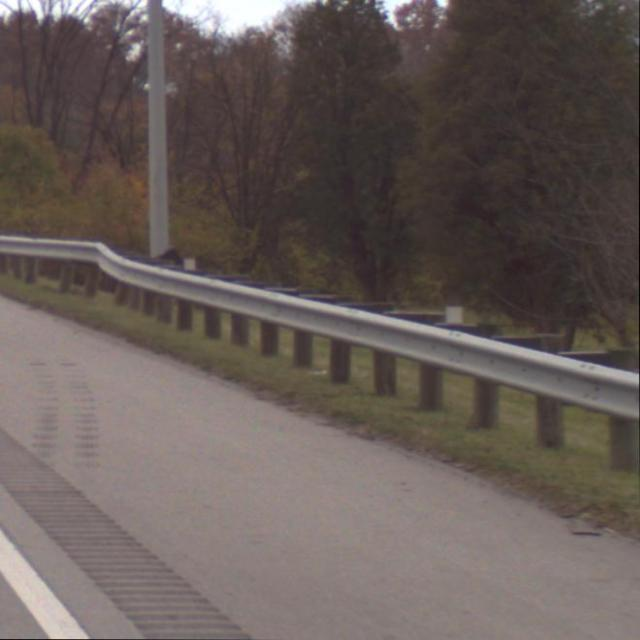Guard rail: (0, 235, 640, 480)
